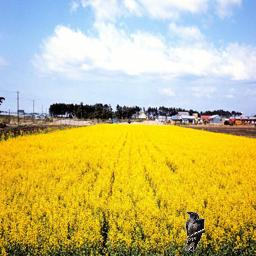Crow: (185, 211, 205, 251)
